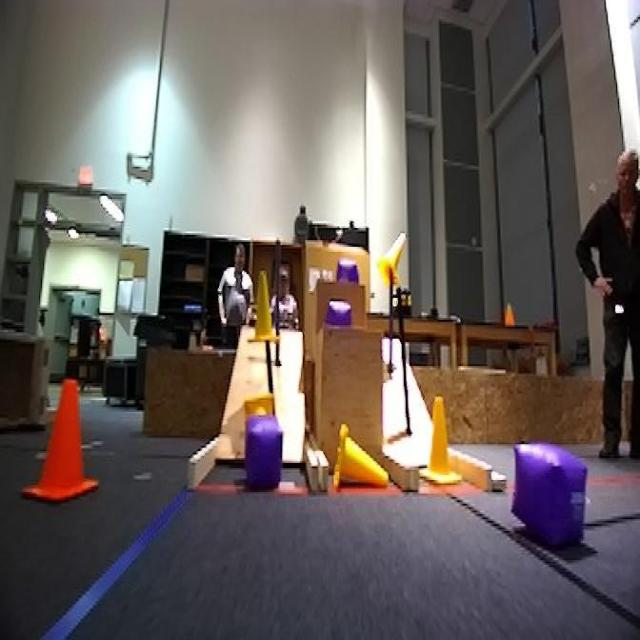frc_cone: (422, 392, 463, 496), (333, 429, 382, 487), (250, 282, 277, 346), (377, 237, 404, 290), (242, 398, 276, 421)
frc_cube: (518, 443, 588, 548), (246, 426, 284, 490), (327, 305, 352, 332), (339, 258, 358, 282)
